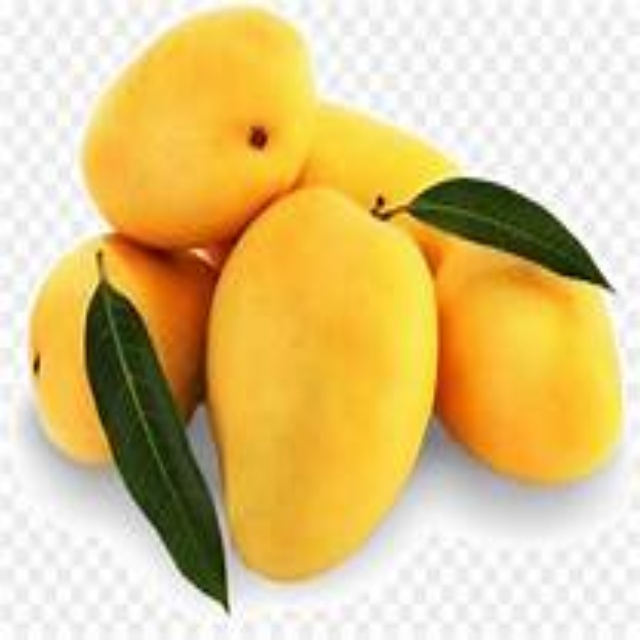mango: (209, 189, 433, 578), (82, 9, 304, 246), (425, 218, 625, 475), (33, 238, 231, 458)
